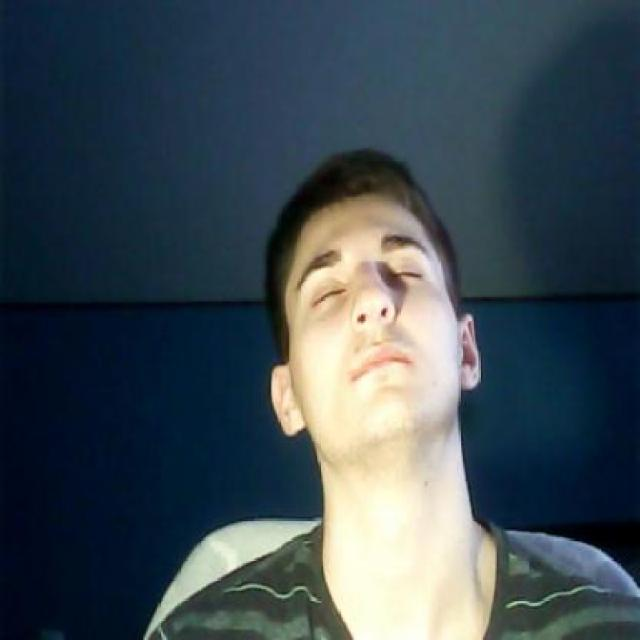drowsy: (310, 282, 345, 316), (388, 261, 422, 290)
